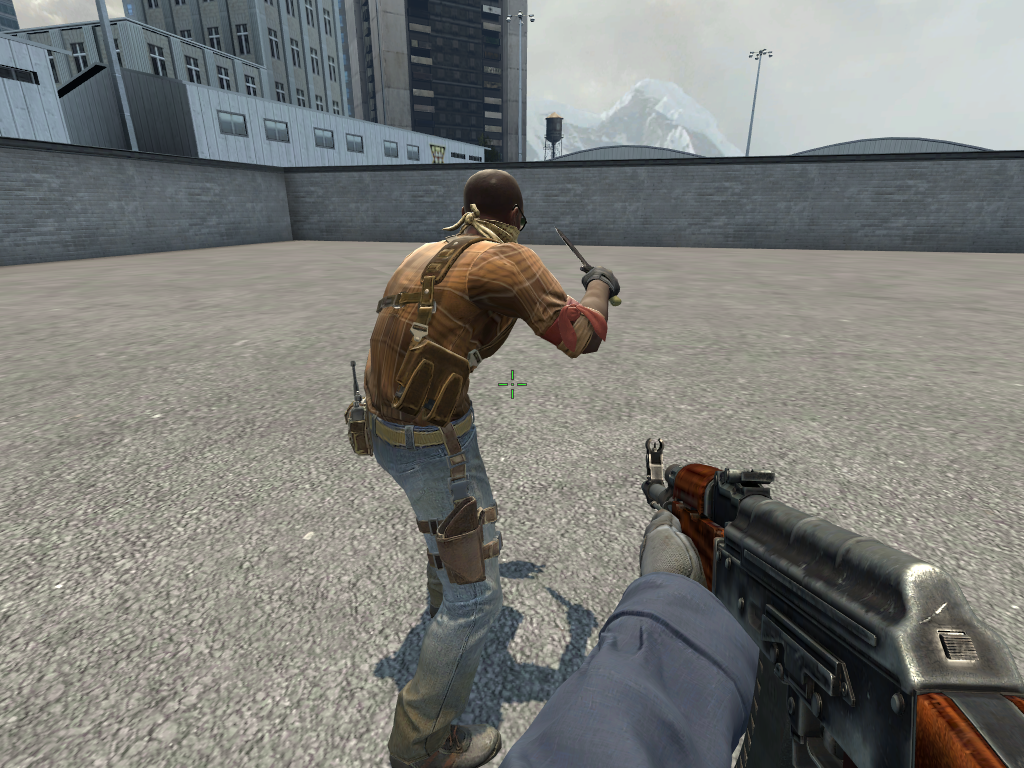tr head: (458, 167, 532, 250)
